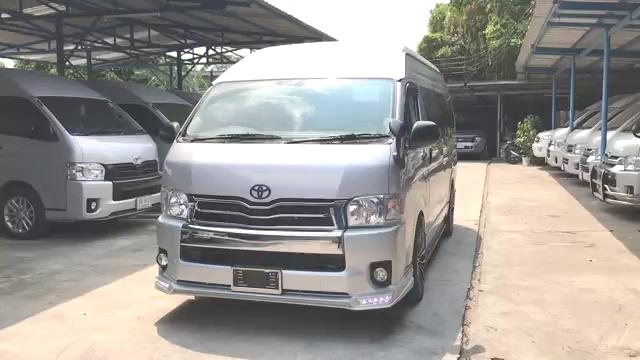van: (152, 40, 462, 310)
